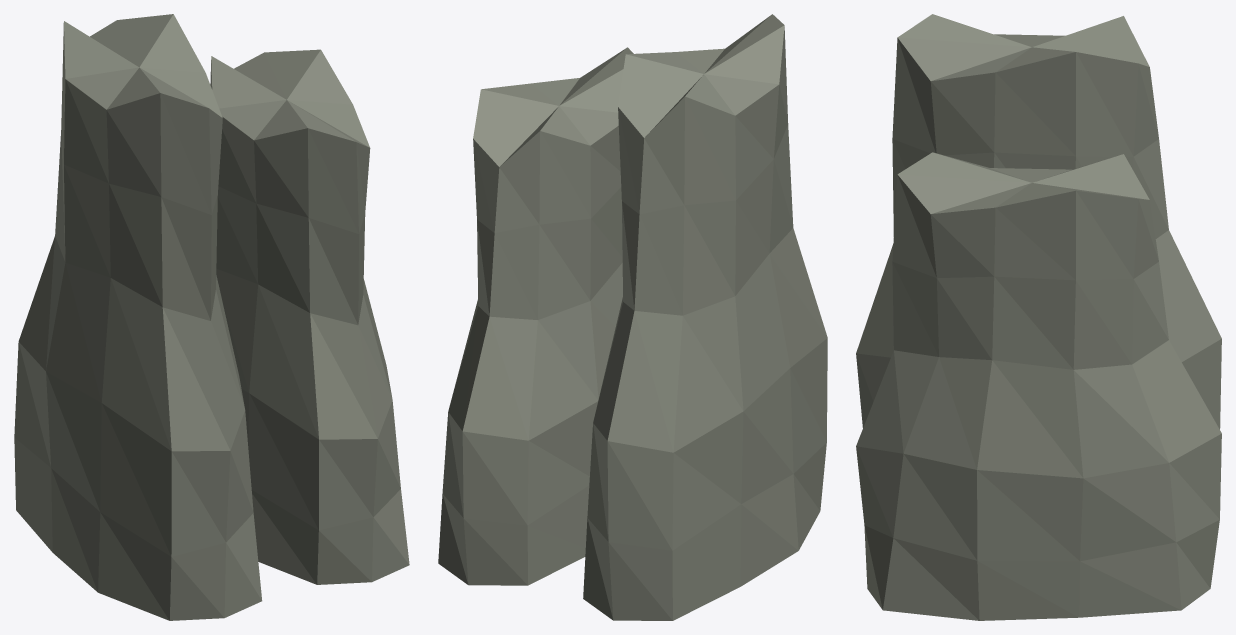
The model's file is visual-far.glb.
3 views of the same model, side by side, from view 1: azimuth 30°, elevation 25°; view 2: azimuth 150°, elevation 25°; view 3: azimuth 270°, elevation 25° (orthographic). The views are drawn at different scales.
Visible parts, largest first — view 1: 破岩形状与干湿色尺寸族; view 2: 破岩形状与干湿色尺寸族; view 3: 破岩形状与干湿色尺寸族.
Boxes of the visible parts, x1,y1,x2,y2 form: 破岩形状与干湿色尺寸族: [14, 14, 409, 620]; 破岩形状与干湿色尺寸族: [438, 14, 827, 620]; 破岩形状与干湿色尺寸族: [856, 14, 1221, 620].
Bounding box in the file's own units: 4.49 × 7.82 × 5.12.
2 materials, 2 textured.
